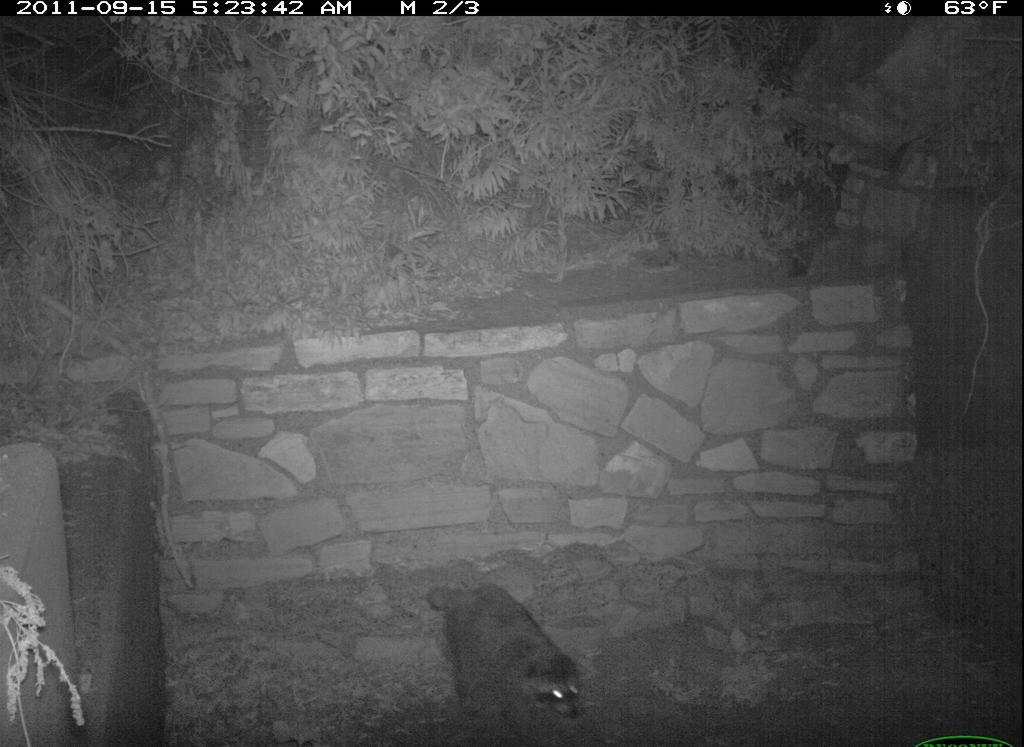raccoon: (421, 571, 598, 747)
